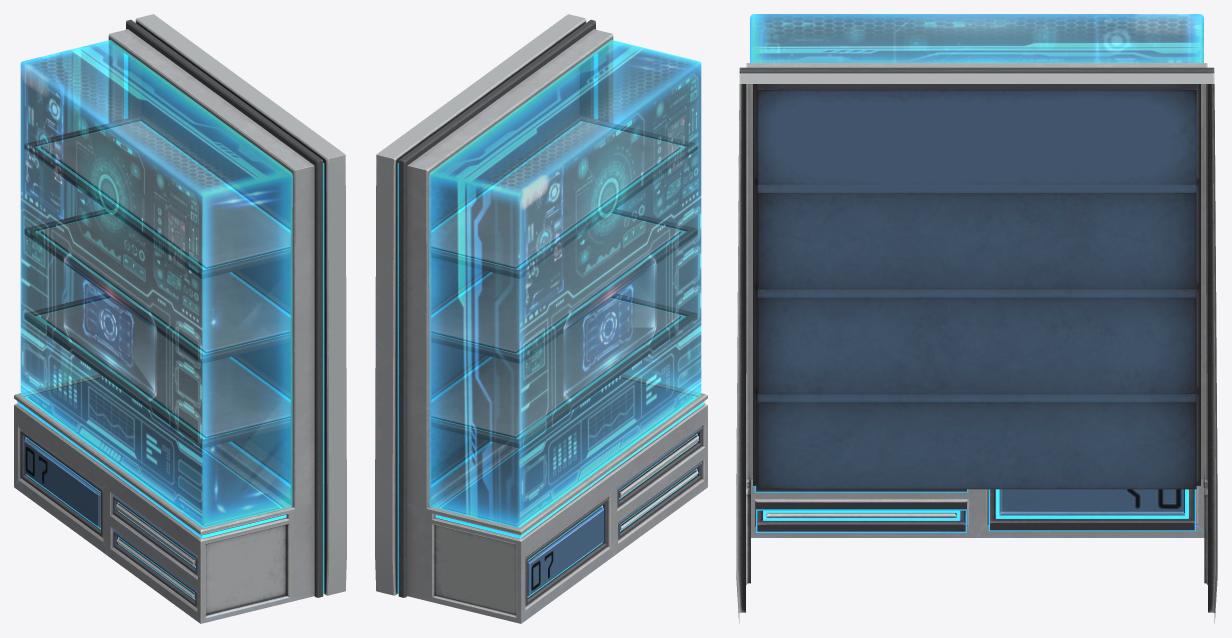
File: lab_cab.glb
The picture shows the model from 3 angles, left to right: view 1: azimuth 30°, elevation 25°; view 2: azimuth 150°, elevation 25°; view 3: azimuth 270°, elevation 25°; orthographic projection. The views are drawn at different scales.
Visible parts, largest first — view 1: prop; view 2: prop; view 3: prop.
Boxes of the visible parts, left/top/right/bottom form: prop: left=14, top=14, right=346, bottom=623; prop: left=375, top=14, right=707, bottom=623; prop: left=736, top=14, right=1217, bottom=623.
Bounding box in the file's own units: 0.8802 × 2.58 × 2.08.
2 materials, 2 textured.
